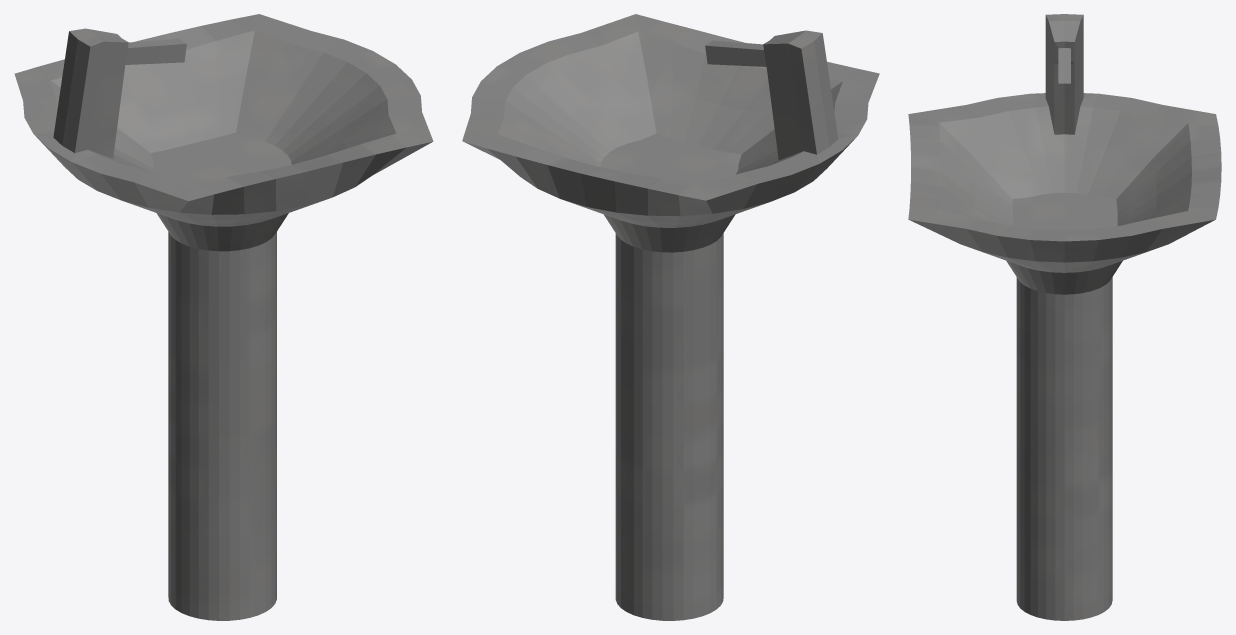
Rendered from Bathsink.glb.
3 views of the same model, side by side, from view 1: azimuth 30°, elevation 25°; view 2: azimuth 150°, elevation 25°; view 3: azimuth 270°, elevation 25° (orthographic). The views are drawn at different scales.
Visible parts, largest first — view 1: Bathroomsink_Baked; view 2: Bathroomsink_Baked; view 3: Bathroomsink_Baked.
Boxes of the visible parts, bbox=[...] form: Bathroomsink_Baked: bbox=[14, 14, 433, 620]; Bathroomsink_Baked: bbox=[462, 14, 879, 620]; Bathroomsink_Baked: bbox=[908, 14, 1221, 620].
Size of the model in its own units: 2.72 by 4.47 by 2.42.
Materials: 1 (1 with a texture image).
